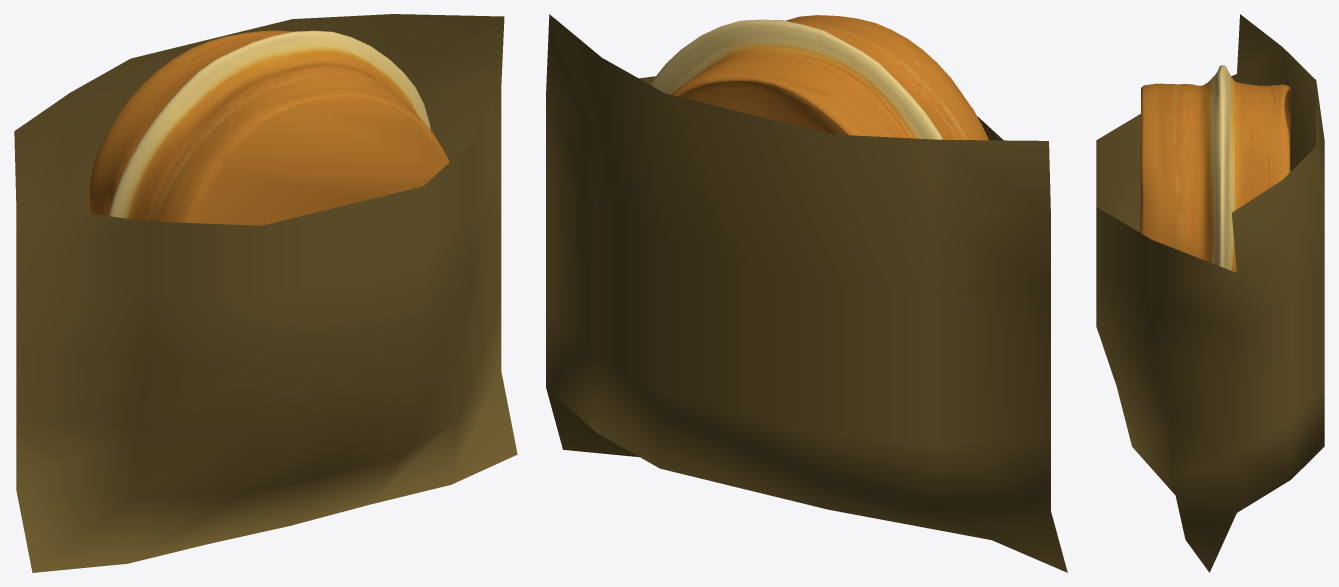
Rendered from wheelCake.fbx.
The picture shows the model from 3 angles, left to right: view 1: azimuth 30°, elevation 25°; view 2: azimuth 150°, elevation 25°; view 3: azimuth 270°, elevation 25°; orthographic projection. The views are drawn at different scales.
Visible parts, largest first — view 1: Plane, part_0000; view 2: Plane, part_0000; view 3: Plane, part_0000.
Boxes of the visible parts, x1,y1,x2,y2 form: Plane: (14,14,517,572); part_0000: (88,30,449,225); Plane: (546,14,1067,572); part_0000: (651,15,988,140); Plane: (1096,14,1324,572); part_0000: (1140,65,1291,272).
Size of the model in its own units: 69.51 by 64.53 by 33.69.
